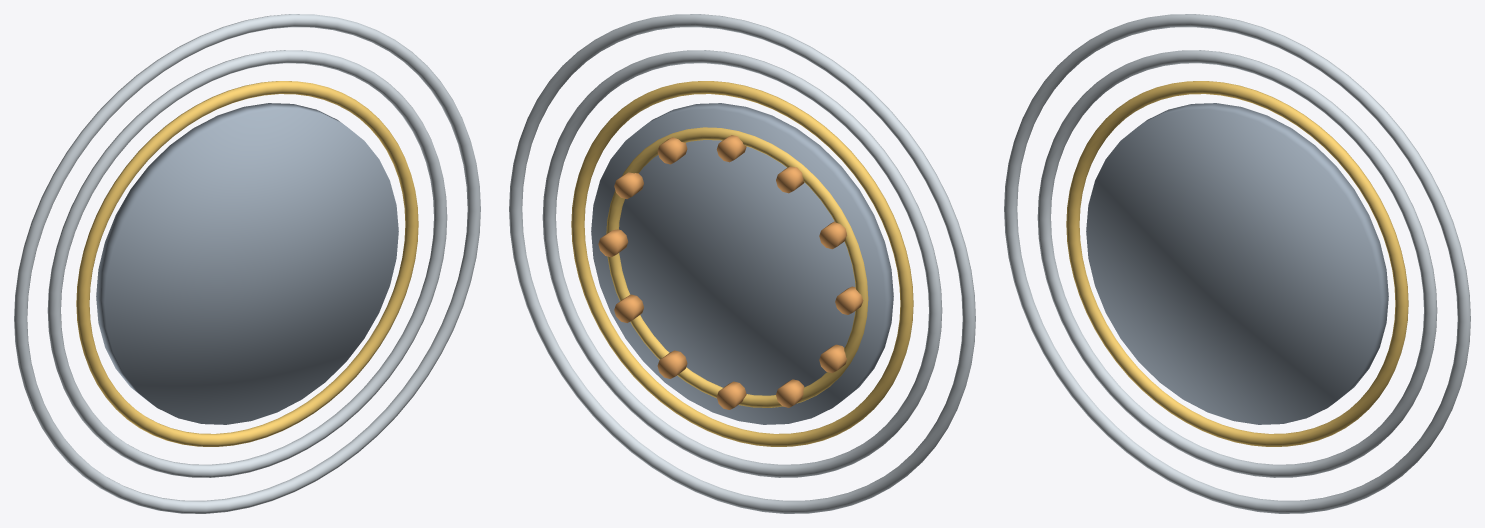
The model's file is L87_04_StationaryGravityHub_Fitted.fbx.
The picture shows the model from 3 angles, left to right: view 1: azimuth 30°, elevation 25°; view 2: azimuth 150°, elevation 25°; view 3: azimuth 330°, elevation 25°; orthographic projection.
Visible parts, largest first — view 1: L87_StationaryGravityHub_ANIM_STATION_HUB_FLYWHEEL__tint6173, L87_StationaryGravityHub_ANIM_STATION_HUB_FLYWHEEL__tintB0BF, L87_StationaryGravityHub_ANIM_STATION_HUB_FLYWHEEL__tintF5A6; view 2: L87_StationaryGravityHub_ANIM_STATION_HUB_FLYWHEEL__tint6173, L87_StationaryGravityHub_ANIM_STATION_HUB_FLYWHEEL__tintB0BF, L87_StationaryGravityHub_ANIM_STATION_HUB_FLYWHEEL__tintF5A6, L87_StationaryGravityHub_ANIM_STATION_HUB_FLYWHEEL__tintD966; view 3: L87_StationaryGravityHub_ANIM_STATION_HUB_FLYWHEEL__tint6173, L87_StationaryGravityHub_ANIM_STATION_HUB_FLYWHEEL__tintB0BF, L87_StationaryGravityHub_ANIM_STATION_HUB_FLYWHEEL__tintF5A6.
Boxes of the visible parts, x1,y1,x2,y2 form: L87_StationaryGravityHub_ANIM_STATION_HUB_FLYWHEEL__tint6173: (96,103,398,424); L87_StationaryGravityHub_ANIM_STATION_HUB_FLYWHEEL__tintB0BF: (14,14,480,513); L87_StationaryGravityHub_ANIM_STATION_HUB_FLYWHEEL__tintF5A6: (76,81,418,446); L87_StationaryGravityHub_ANIM_STATION_HUB_FLYWHEEL__tint6173: (591,103,893,424); L87_StationaryGravityHub_ANIM_STATION_HUB_FLYWHEEL__tintB0BF: (509,14,975,513); L87_StationaryGravityHub_ANIM_STATION_HUB_FLYWHEEL__tintF5A6: (571,81,913,446); L87_StationaryGravityHub_ANIM_STATION_HUB_FLYWHEEL__tintD966: (598,135,863,409); L87_StationaryGravityHub_ANIM_STATION_HUB_FLYWHEEL__tint6173: (1086,103,1388,424); L87_StationaryGravityHub_ANIM_STATION_HUB_FLYWHEEL__tintB0BF: (1004,14,1470,513); L87_StationaryGravityHub_ANIM_STATION_HUB_FLYWHEEL__tintF5A6: (1066,81,1408,446).
Bounding box in the file's own units: 35.85 × 35.85 × 2.69.
